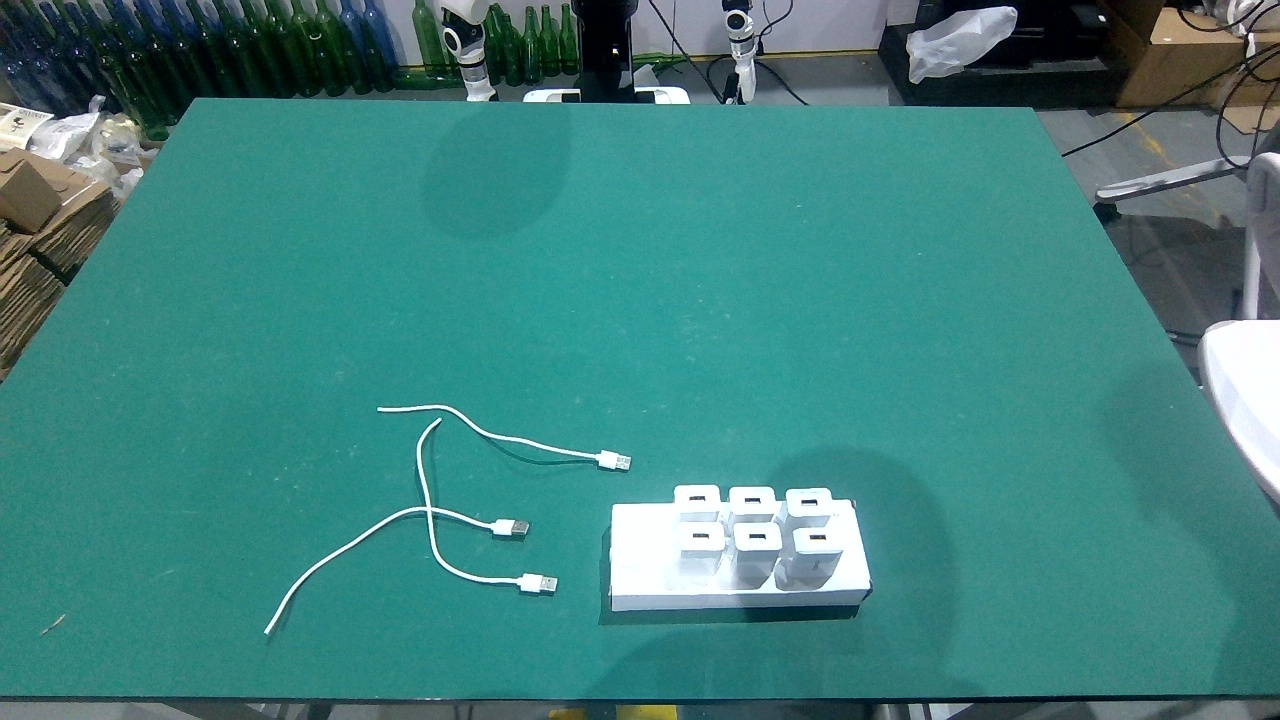usb_a_plug: (579, 446, 633, 473), (508, 571, 559, 594), (476, 518, 529, 537)
